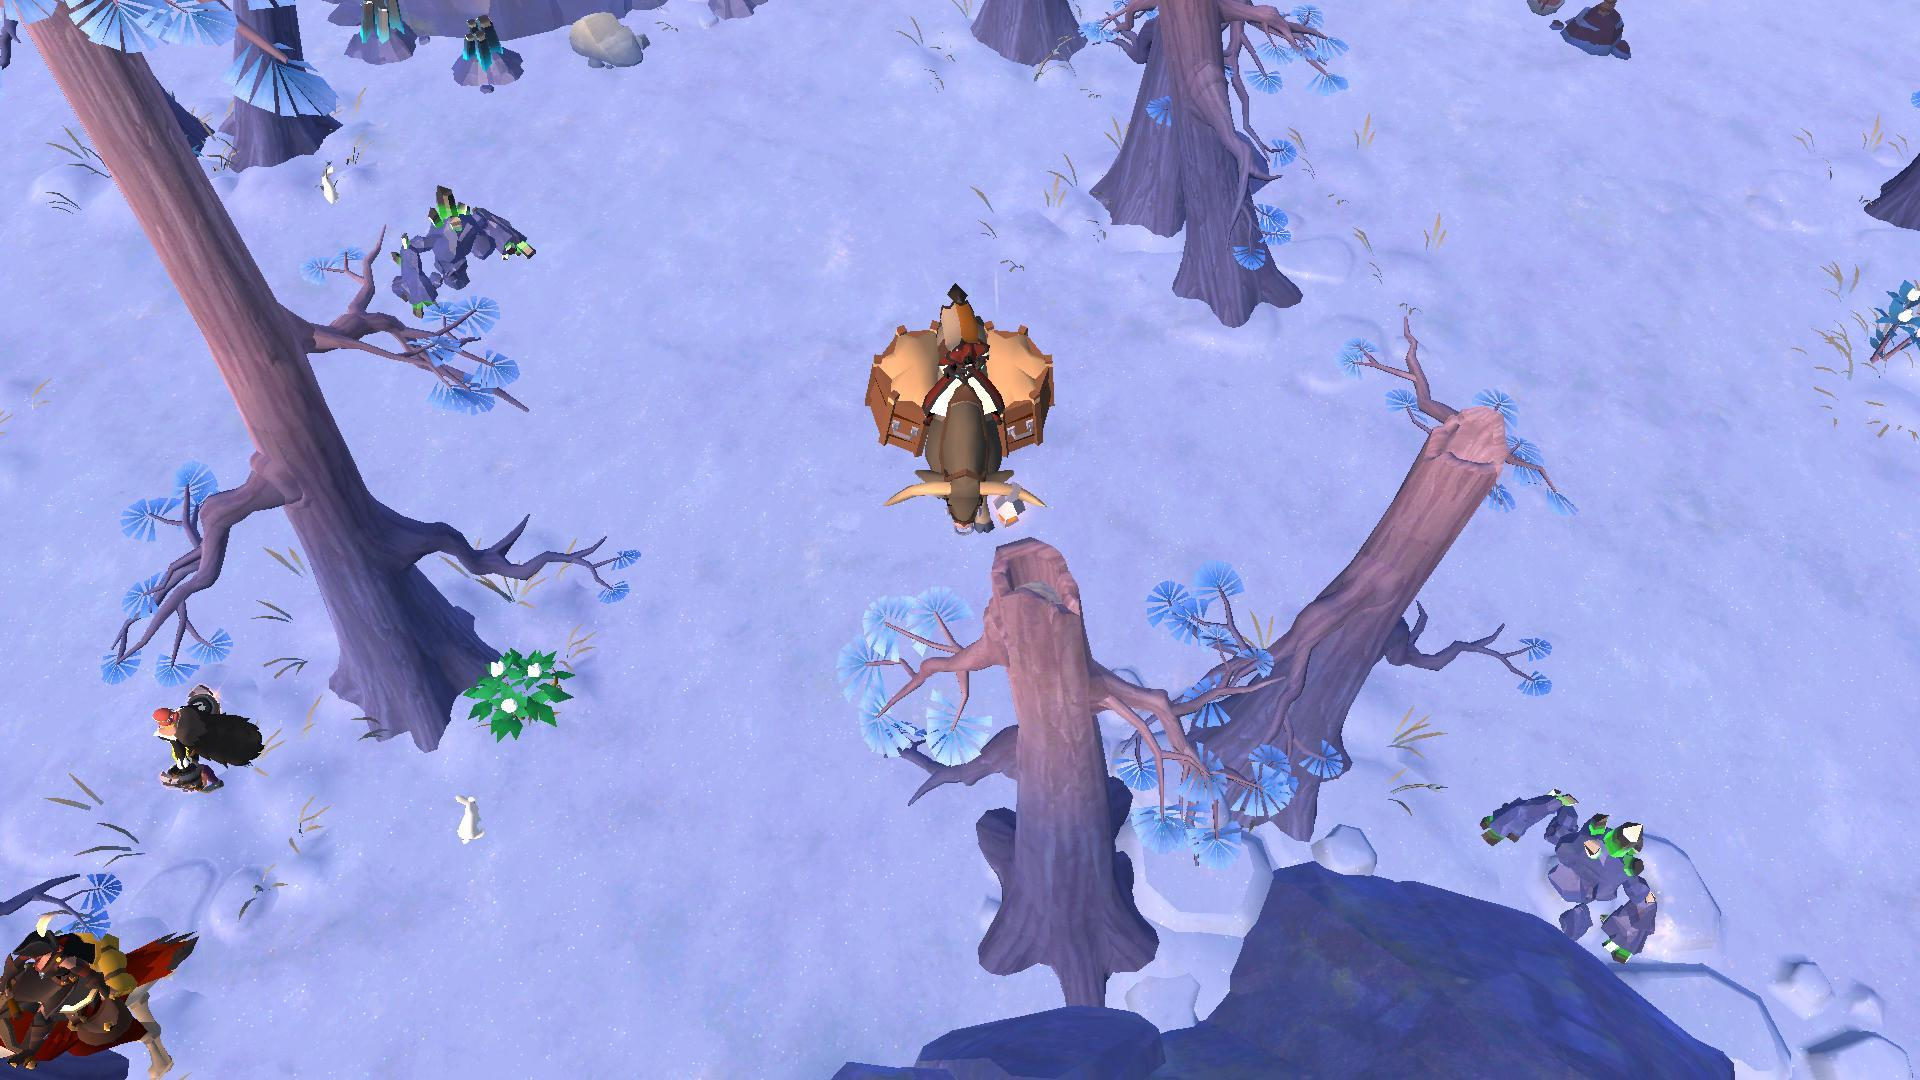fiber_t3: (452, 644, 566, 738)
ore_t4: (352, 0, 415, 58), (455, 3, 502, 69)
